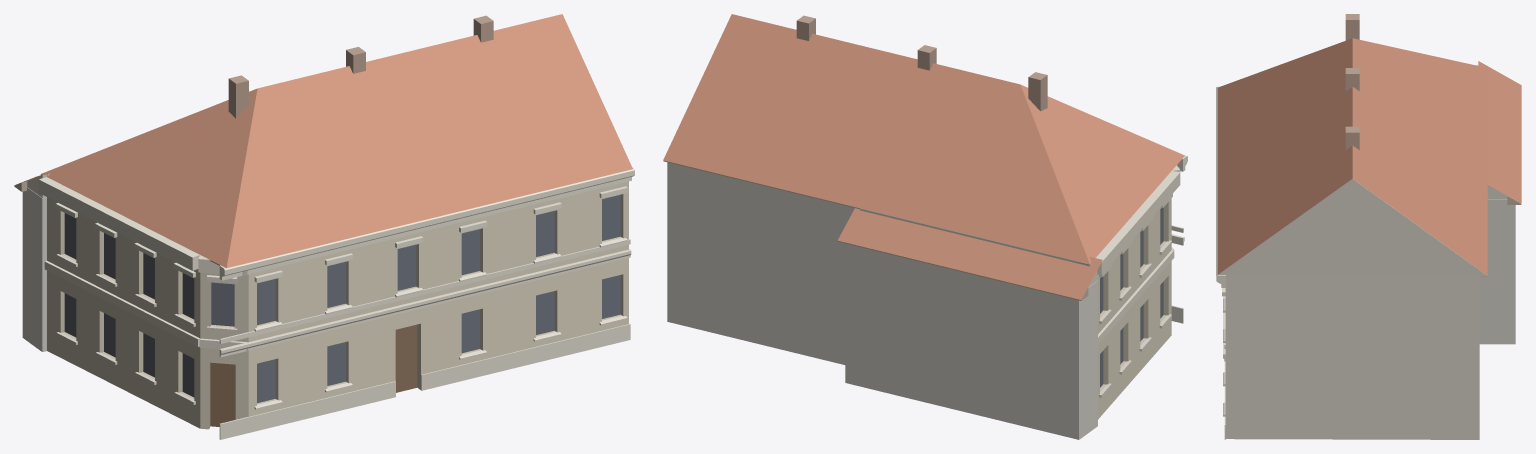
The picture shows the model from 3 angles, left to right: view 1: azimuth 30°, elevation 25°; view 2: azimuth 150°, elevation 25°; view 3: azimuth 270°, elevation 25°; orthographic projection. The views are drawn at different scales.
Parts seen in each view (by area): view 1: CP_1166_Roof, CP_1166_Masonry, CP_1166_Cornice_main_0, CP_1166_Rear_E, CP_1166_Cornice_string_0, CP_1166_Cornice_plinth_1, CP_1166_Cornice_rudolfova_main, CP_1166_Cornice_plinth_0, CP_1166_Cornice_sillband_0, CP_1166_Cornice_rudolfova_string, CP_1166_Chimney_0; view 2: CP_1166_Roof, CP_1166_Masonry, CP_1166_Rear_E, CP_1166_WingRoof_Rear_E, CP_1166_Cornice_rudolfova_main, CP_1166_Cornice_rudolfova_string, CP_1166_AtticClosure_1, CP_1166_Chimney_0; view 3: CP_1166_Roof, CP_1166_Masonry, CP_1166_Gable_R_gable, CP_1166_Rear_E, CP_1166_WingRoof_Rear_E, CP_1166_Cornice_main_0, CP_1166_Chimney_0, CP_1166_Chimney_2, CP_1166_Chimney_1.
Part boxes in pixels (<box>): CP_1166_Roof: <box>41,14,632,268</box>; CP_1166_Masonry: <box>47,181,628,429</box>; CP_1166_Cornice_main_0: <box>219,168,634,280</box>; CP_1166_Rear_E: <box>22,187,46,351</box>; CP_1166_Cornice_string_0: <box>219,249,631,357</box>; CP_1166_Cornice_plinth_1: <box>421,324,630,390</box>; CP_1166_Cornice_rudolfova_main: <box>38,177,199,270</box>; CP_1166_Cornice_plinth_0: <box>219,381,395,439</box>; CP_1166_Cornice_sillband_0: <box>219,239,630,344</box>; CP_1166_Cornice_rudolfova_string: <box>44,261,199,346</box>; CP_1166_Chimney_0: <box>228,75,248,118</box>; CP_1166_Roof: <box>663,14,1184,264</box>; CP_1166_Masonry: <box>667,162,1171,419</box>; CP_1166_Rear_E: <box>845,243,1097,439</box>; CP_1166_WingRoof_Rear_E: <box>837,208,1102,299</box>; CP_1166_Cornice_rudolfova_main: <box>1096,171,1180,274</box>; CP_1166_Cornice_rudolfova_string: <box>1098,250,1174,344</box>; CP_1166_AtticClosure_1: <box>860,208,1097,286</box>; CP_1166_Chimney_0: <box>1028,72,1047,111</box>; CP_1166_Roof: <box>1217,38,1487,275</box>; CP_1166_Masonry: <box>1225,275,1479,439</box>; CP_1166_Gable_R_gable: <box>1218,179,1487,276</box>; CP_1166_Rear_E: <box>1479,199,1515,344</box>; CP_1166_WingRoof_Rear_E: <box>1478,61,1521,203</box>; CP_1166_Cornice_main_0: <box>1216,86,1225,287</box>; CP_1166_Chimney_0: <box>1345,14,1359,40</box>; CP_1166_Chimney_2: <box>1345,126,1359,149</box>; CP_1166_Chimney_1: <box>1345,68,1359,90</box>.
Bounding box in the file's own units: 21.6 × 13 × 13.15.
